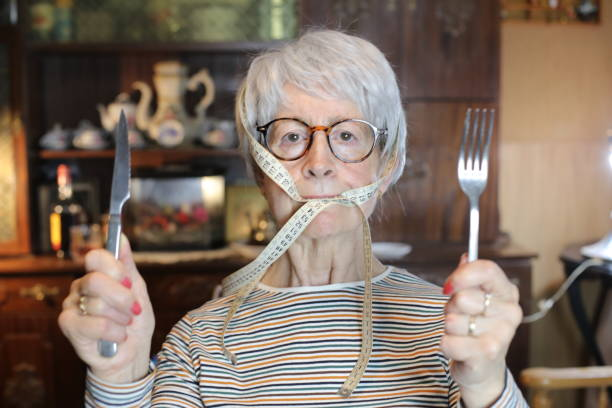knife: (98, 108, 132, 357)
